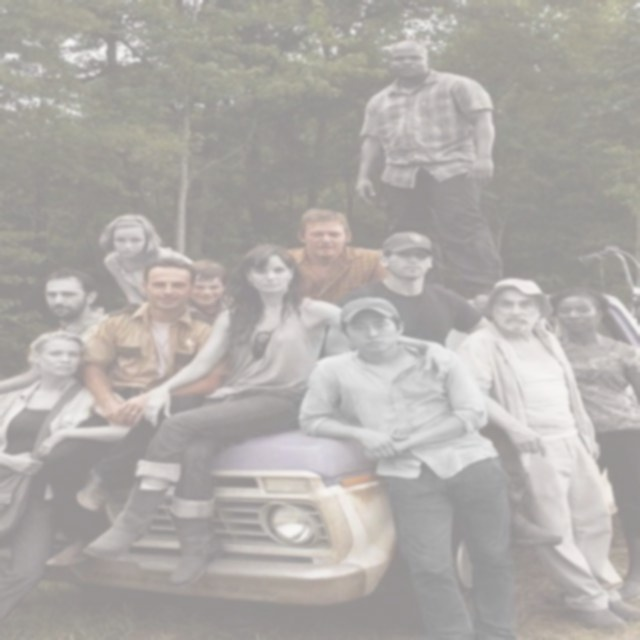pessoa: (77, 241, 466, 593), (294, 290, 530, 640), (449, 272, 639, 633), (39, 255, 230, 570), (0, 329, 144, 627), (348, 38, 510, 300), (545, 286, 639, 602), (336, 230, 494, 352), (0, 268, 109, 394), (282, 208, 396, 305), (96, 212, 197, 305), (183, 258, 237, 326)
